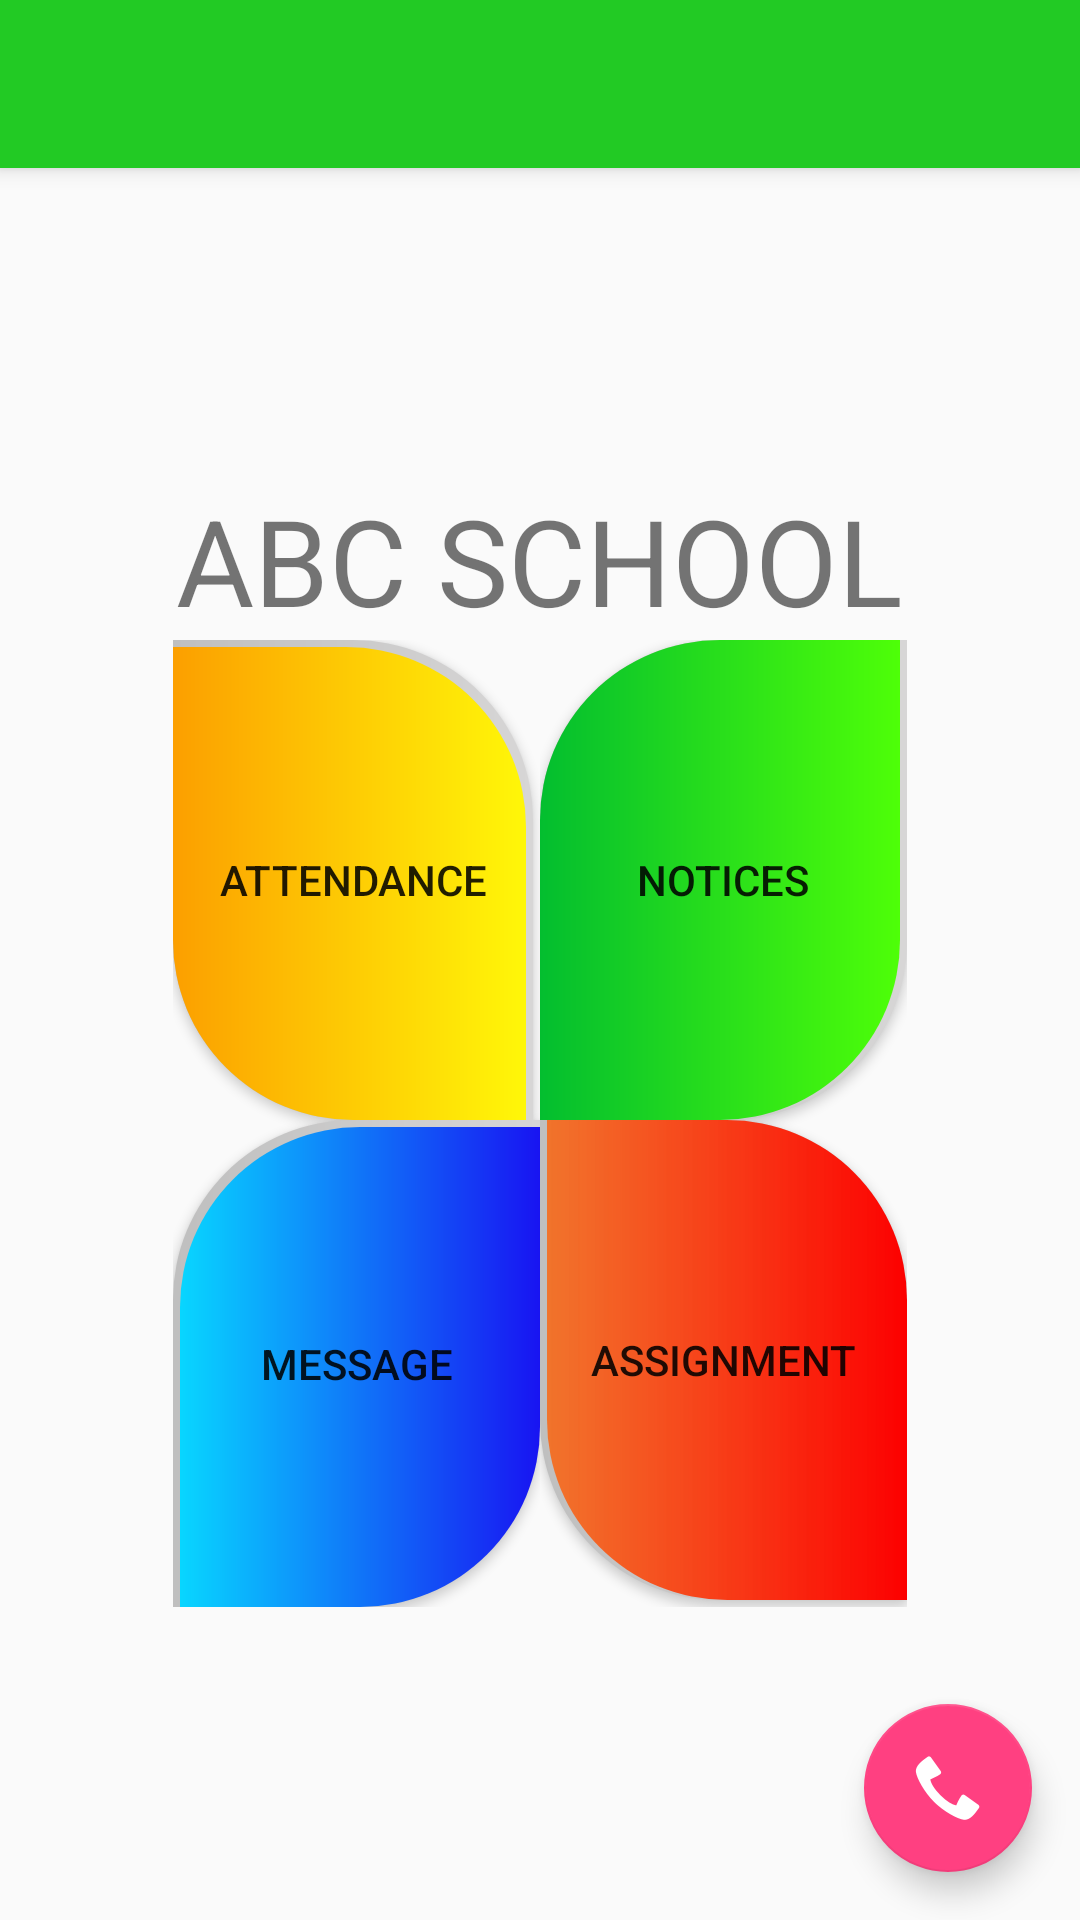

Icon bounding boxes for this 1080px x 1920px phone screenshot, format rect(x1, y1, x2, y2):
phone call: rect(864, 1704, 1032, 1872)
